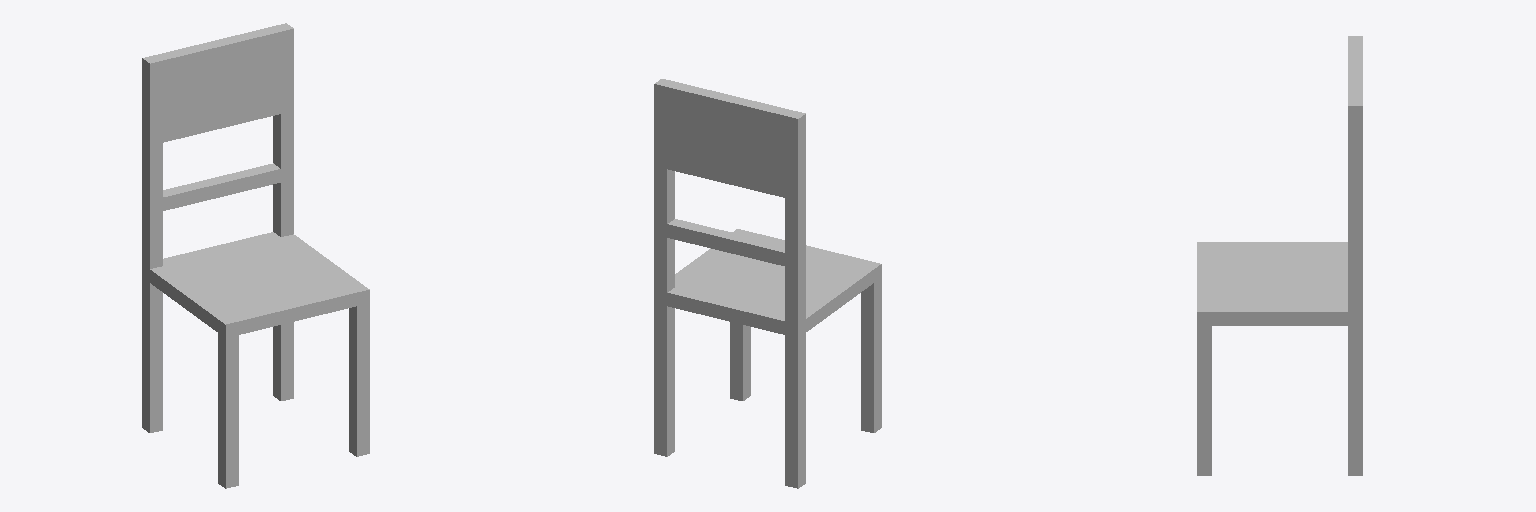
The model's file is Chair.obj.
3 renders of one model, left to right at view 1: azimuth 30°, elevation 25°; view 2: azimuth 150°, elevation 25°; view 3: azimuth 270°, elevation 25°, orthographic.
Parts seen in each view (by area): view 1: Cube.007; view 2: Cube.007; view 3: Cube.007.
Part boxes in pixels (left/top/right/bottom): Cube.007: left=142, top=23, right=369, bottom=488; Cube.007: left=654, top=79, right=881, bottom=488; Cube.007: left=1197, top=36, right=1362, bottom=475.
Size of the model in its own units: 220 by 540 by 220.